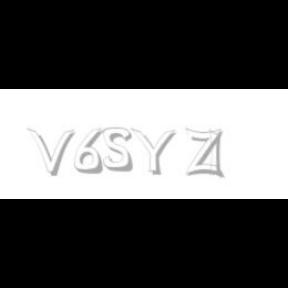6: (74, 128, 104, 176)
I: (210, 128, 222, 180)
S: (104, 128, 134, 172)
V: (27, 128, 75, 176)
Y: (130, 128, 176, 176)
Z: (186, 128, 222, 178)
